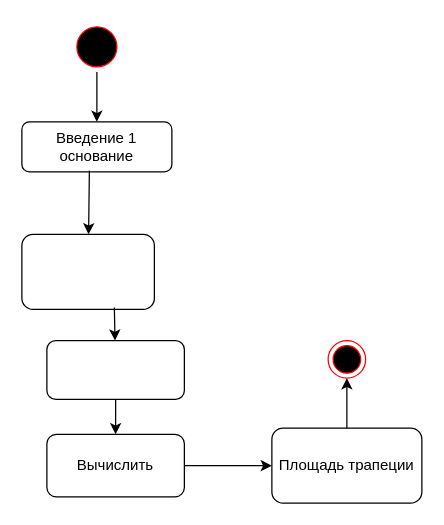
This 444x525 diagram has some shape labels left out. The shapes that lost their labels are listed below. From the top down, each one's centre as x and y in pixels, then its label:
the point at 87,271: Введение 2 основания
the point at 115,369: Введение высоты трапеции
